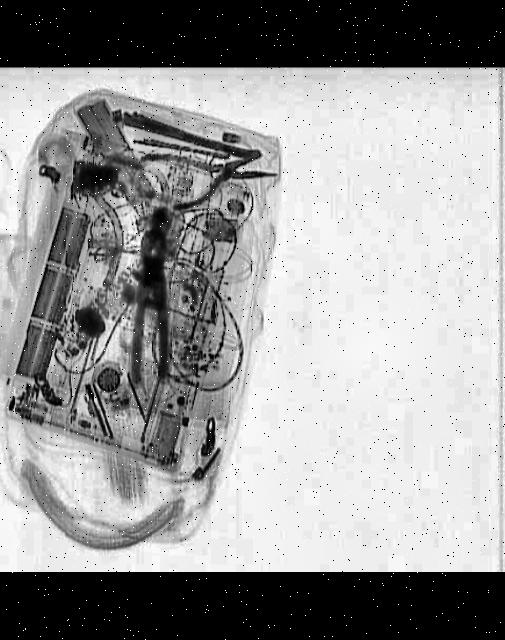Pliers: (141, 132, 282, 211), (131, 252, 176, 382)
